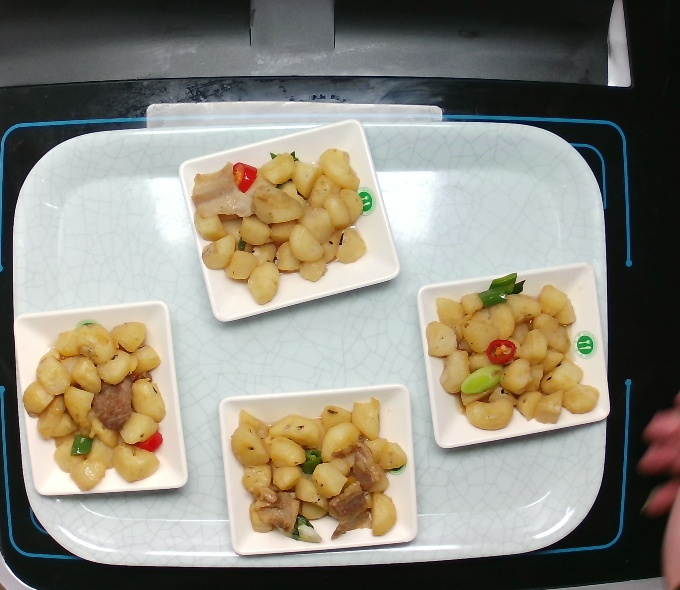wcq-MaTiGuoChaoRou: (190, 143, 372, 307), (423, 271, 605, 434), (228, 394, 408, 546), (19, 316, 169, 493)
